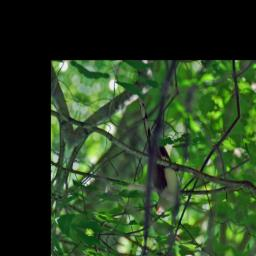Cuckoo: (107, 93, 201, 222)
